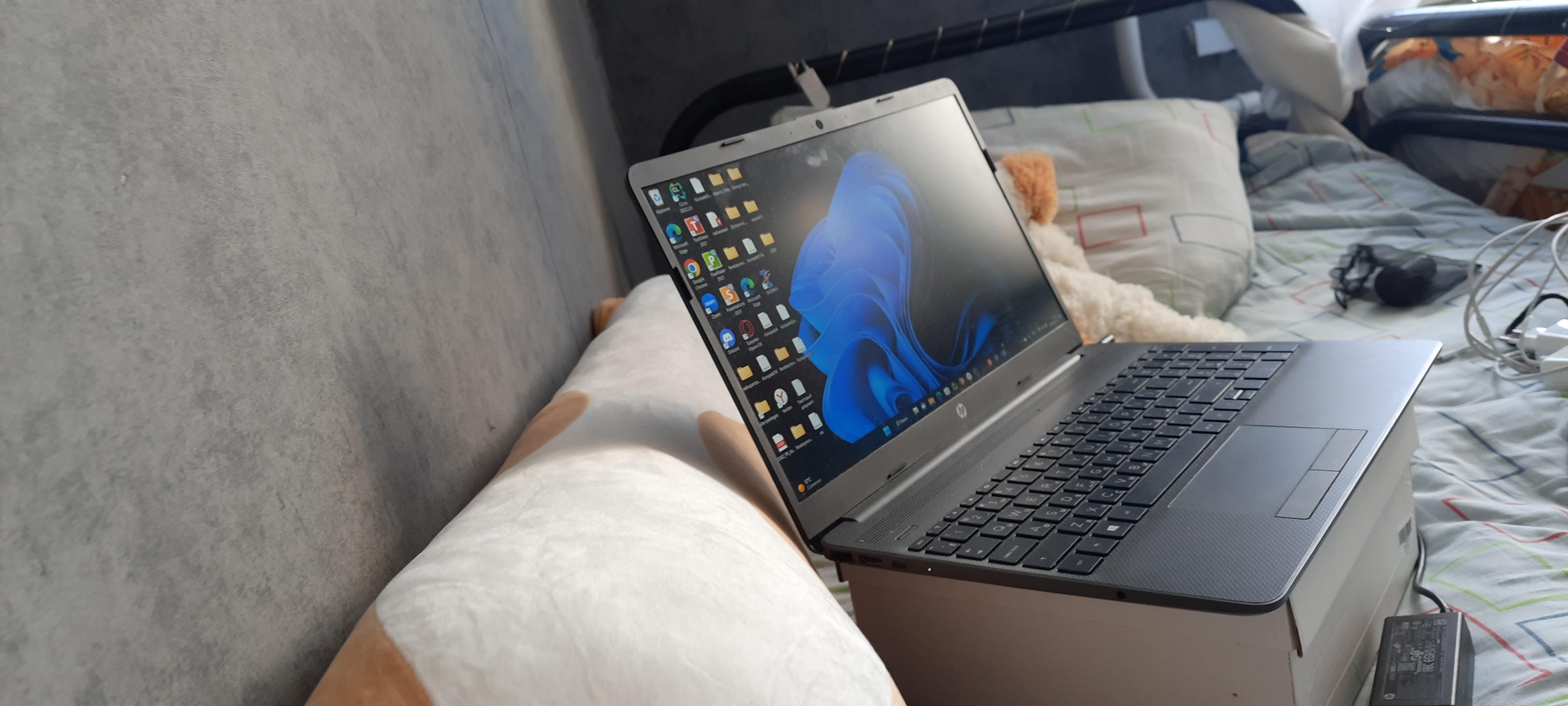monitor: (614, 66, 1087, 545)
